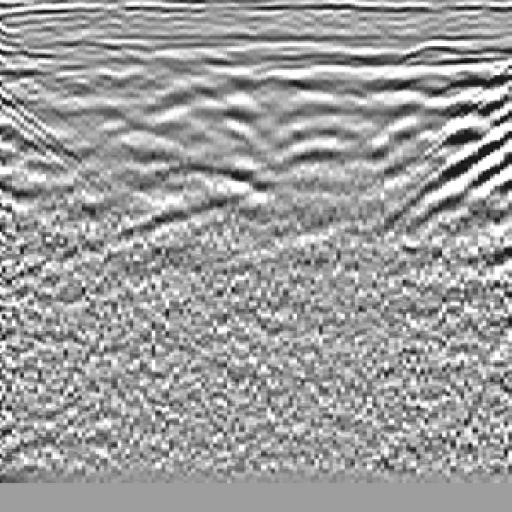metalic: (106, 37, 297, 279)
nonmetalic: (397, 44, 512, 254)
